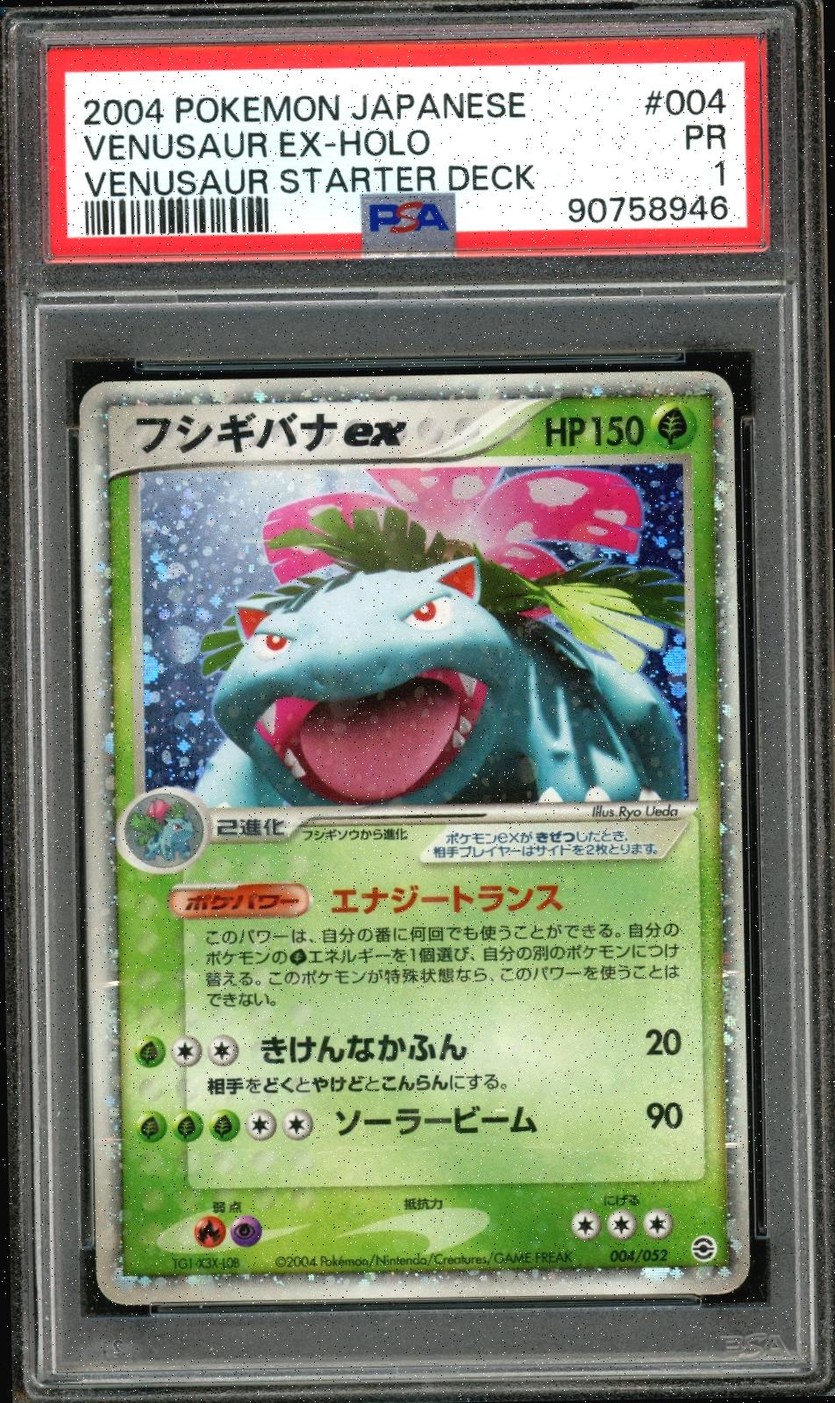card-2UtV: (78, 370, 751, 1306)
